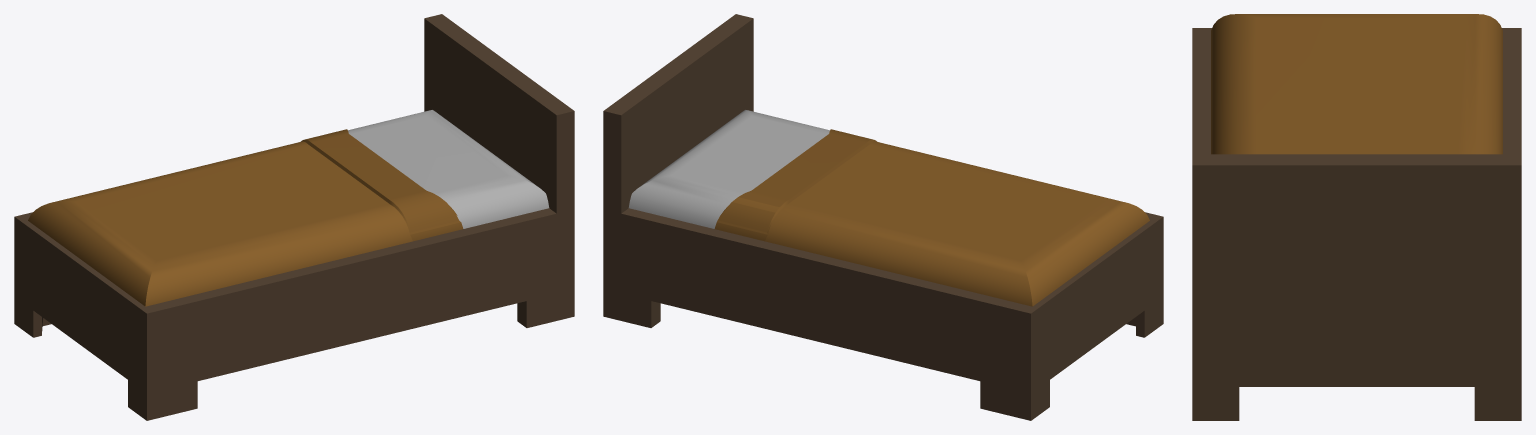
File: Bed.fbx
The picture shows the model from 3 angles, left to right: view 1: azimuth 30°, elevation 25°; view 2: azimuth 150°, elevation 25°; view 3: azimuth 270°, elevation 25°; orthographic projection. The views are drawn at different scales.
Parts seen in each view (by area): view 1: pCube3; view 2: pCube3; view 3: pCube3.
Boxes of the visible parts, box(x1,y1,x2,y2) form: pCube3: box(14, 14, 574, 420); pCube3: box(603, 14, 1163, 420); pCube3: box(1192, 14, 1521, 420).
Bounding box in the file's own units: 15.05 × 6.92 × 8.08.
